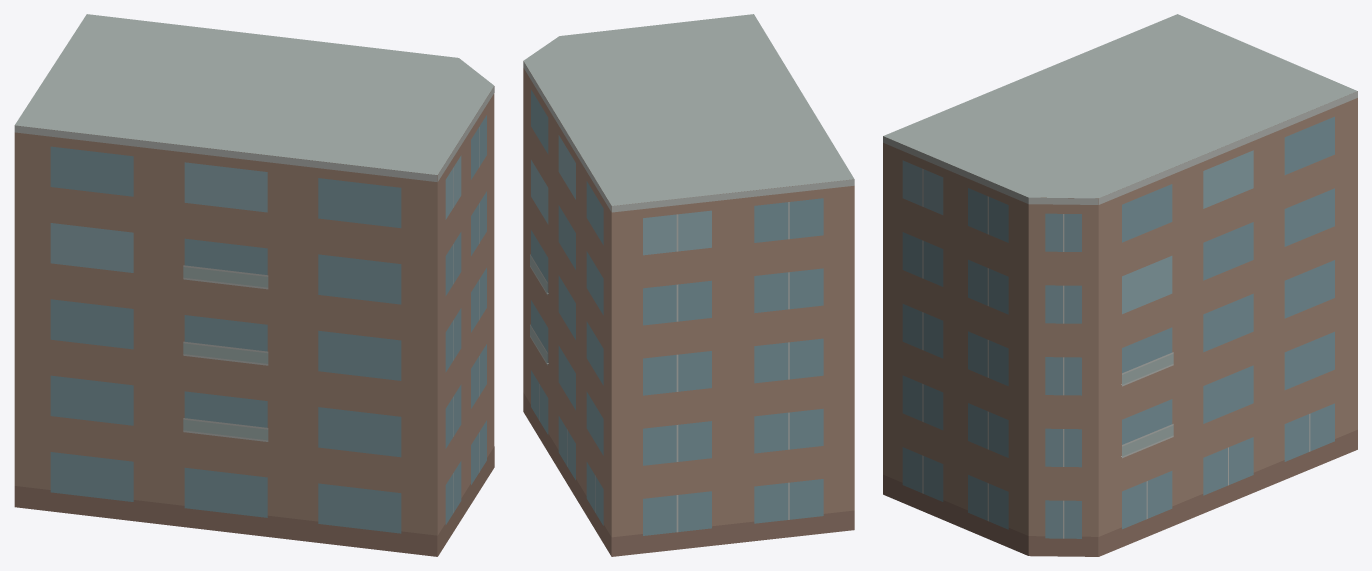
The model's file is survey-upis-32883255.glb.
3 views of the same model, side by side, from view 1: azimuth 30°, elevation 25°; view 2: azimuth 150°, elevation 25°; view 3: azimuth 270°, elevation 25° (orthographic). The views are drawn at different scales.
Parts seen in each view (by area): view 1: survey-upis-32883255.tmp; view 2: survey-upis-32883255.tmp; view 3: survey-upis-32883255.tmp.
Boxes of the visible parts, x1,y1,x2,y2 form: survey-upis-32883255.tmp: (14,14,494,556); survey-upis-32883255.tmp: (523,14,854,556); survey-upis-32883255.tmp: (883,14,1357,556).
Bounding box in the file's own units: 14.57 × 13.2 × 15.85.
